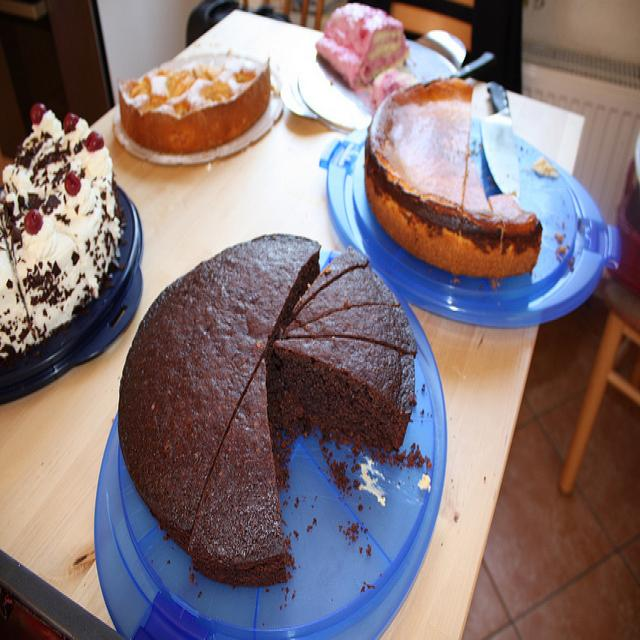chair: (555, 254, 640, 496), (368, 1, 524, 97)
dining table: (0, 1, 620, 633)
